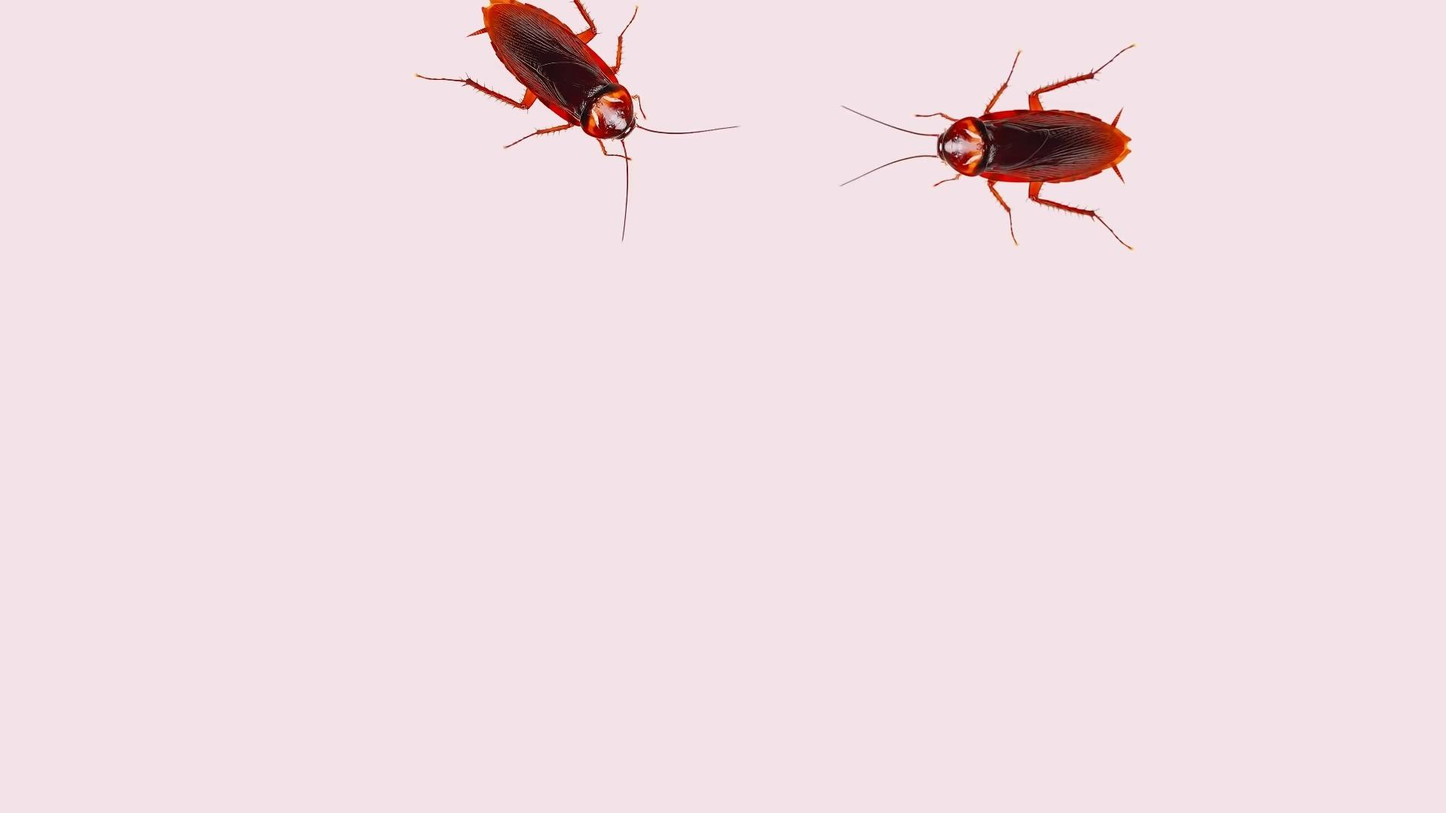cockroach: (883, 64, 1149, 221), (437, 0, 682, 166)
